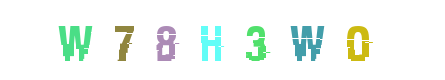0: (318, 0, 398, 80)
3: (183, 0, 263, 80)
7: (102, 0, 182, 80)
8: (137, 0, 217, 80)
H: (164, 0, 244, 80)
W: (84, 0, 164, 80), (266, 0, 346, 80)
